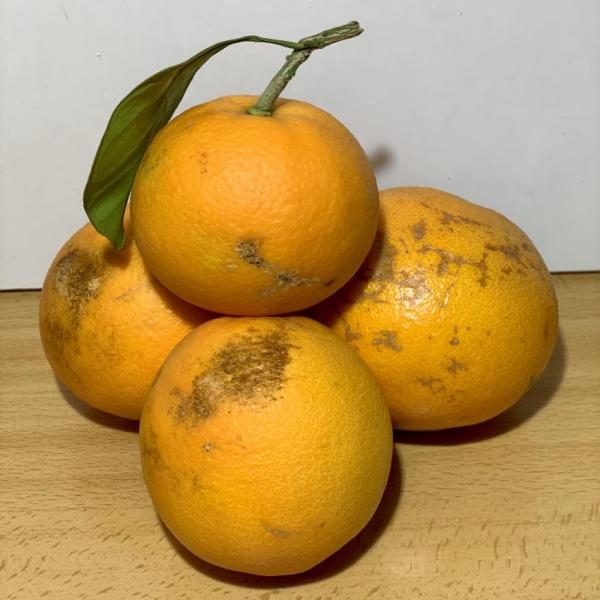Trips: (130, 302, 402, 581), (320, 179, 566, 446), (125, 84, 389, 324), (32, 203, 208, 431)
